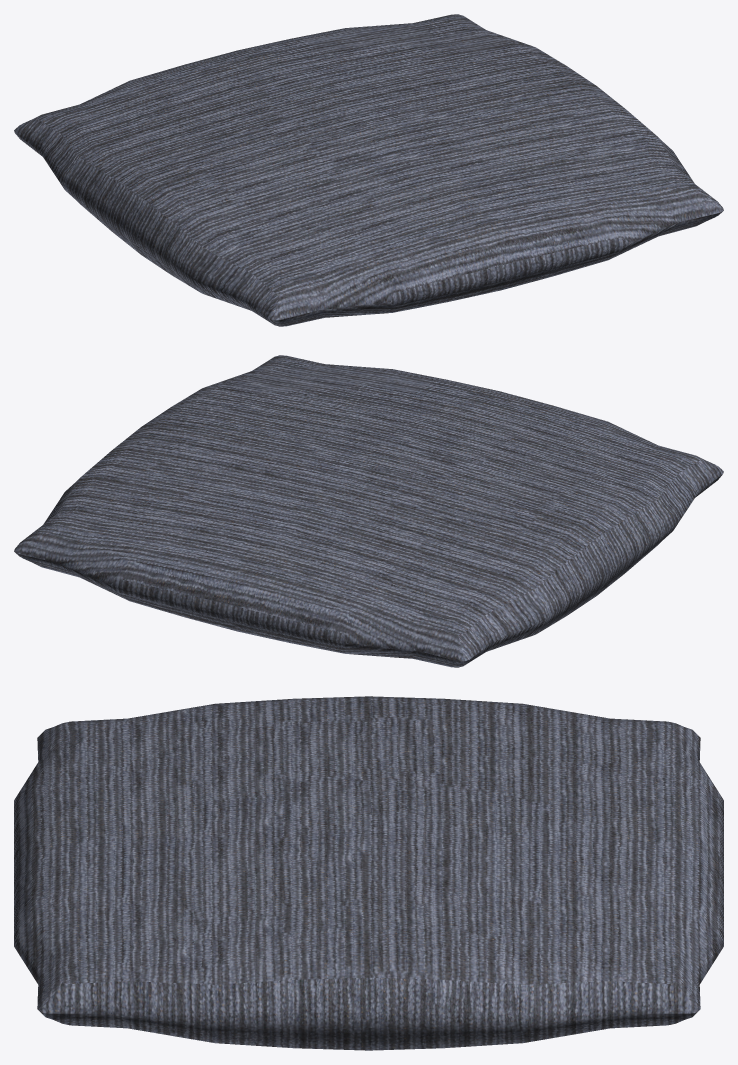
The model's file is Eden_bangsuk.fbx.
3 renders of one model, top to bottom at view 1: azimuth 30°, elevation 25°; view 2: azimuth 150°, elevation 25°; view 3: azimuth 270°, elevation 25°, orthographic. The views are drawn at different scales.
Visible parts, largest first — view 1: Eden_bangsuk; view 2: Eden_bangsuk; view 3: Eden_bangsuk.
Part boxes in pixels (x1,y1,x2,y2): Eden_bangsuk: [14, 14, 723, 326]; Eden_bangsuk: [14, 355, 723, 667]; Eden_bangsuk: [14, 696, 723, 1050].
Bounding box in the file's own units: 0.0137 × 0.00246 × 0.0137.
Materials: 1 (1 with a texture image).
